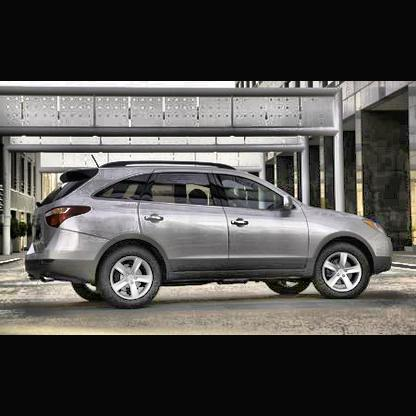Hyundai Veracruz SUV 2012: (26, 160, 393, 306)
